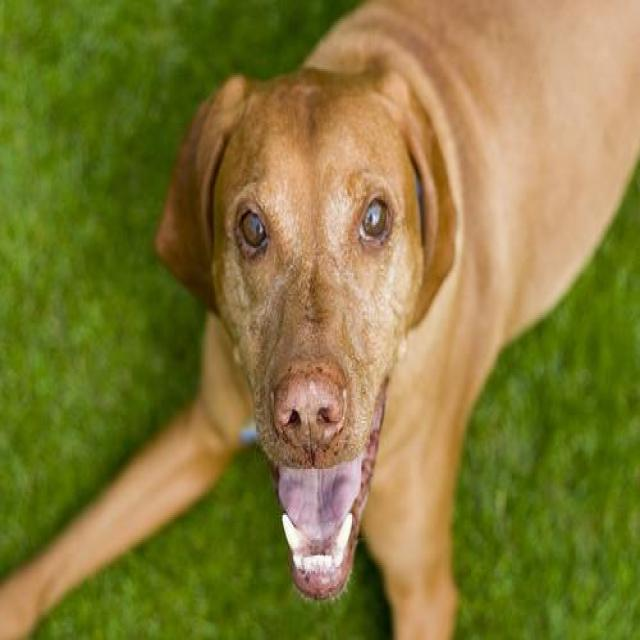vizsla: (0, 4, 639, 638)
